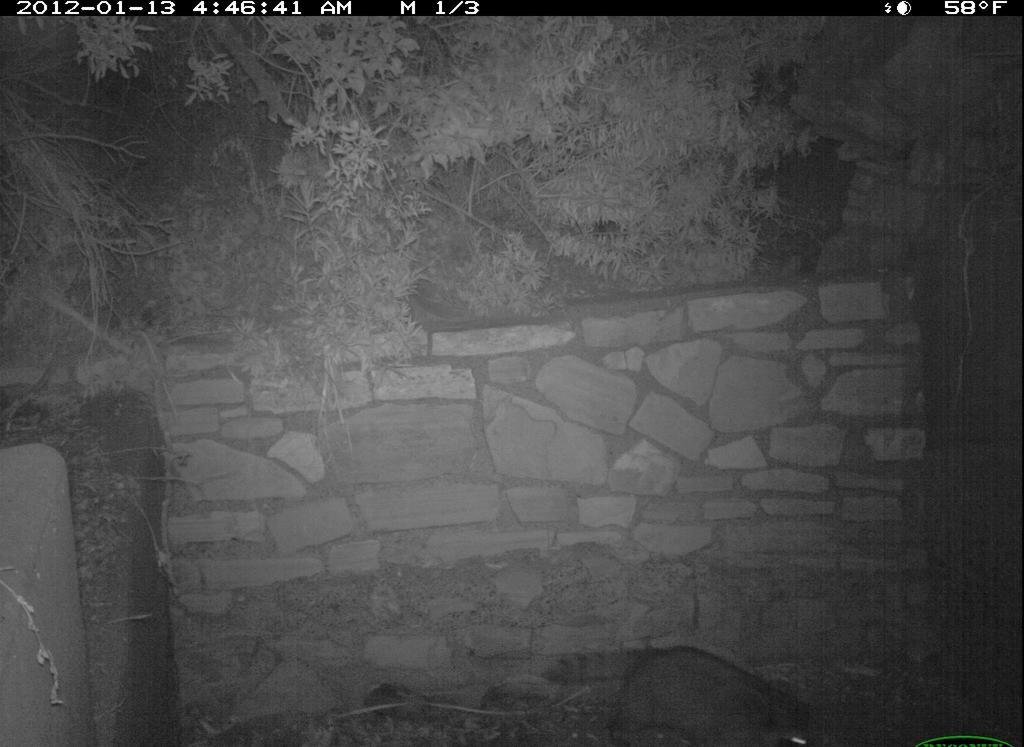raccoon: (533, 626, 816, 744)
